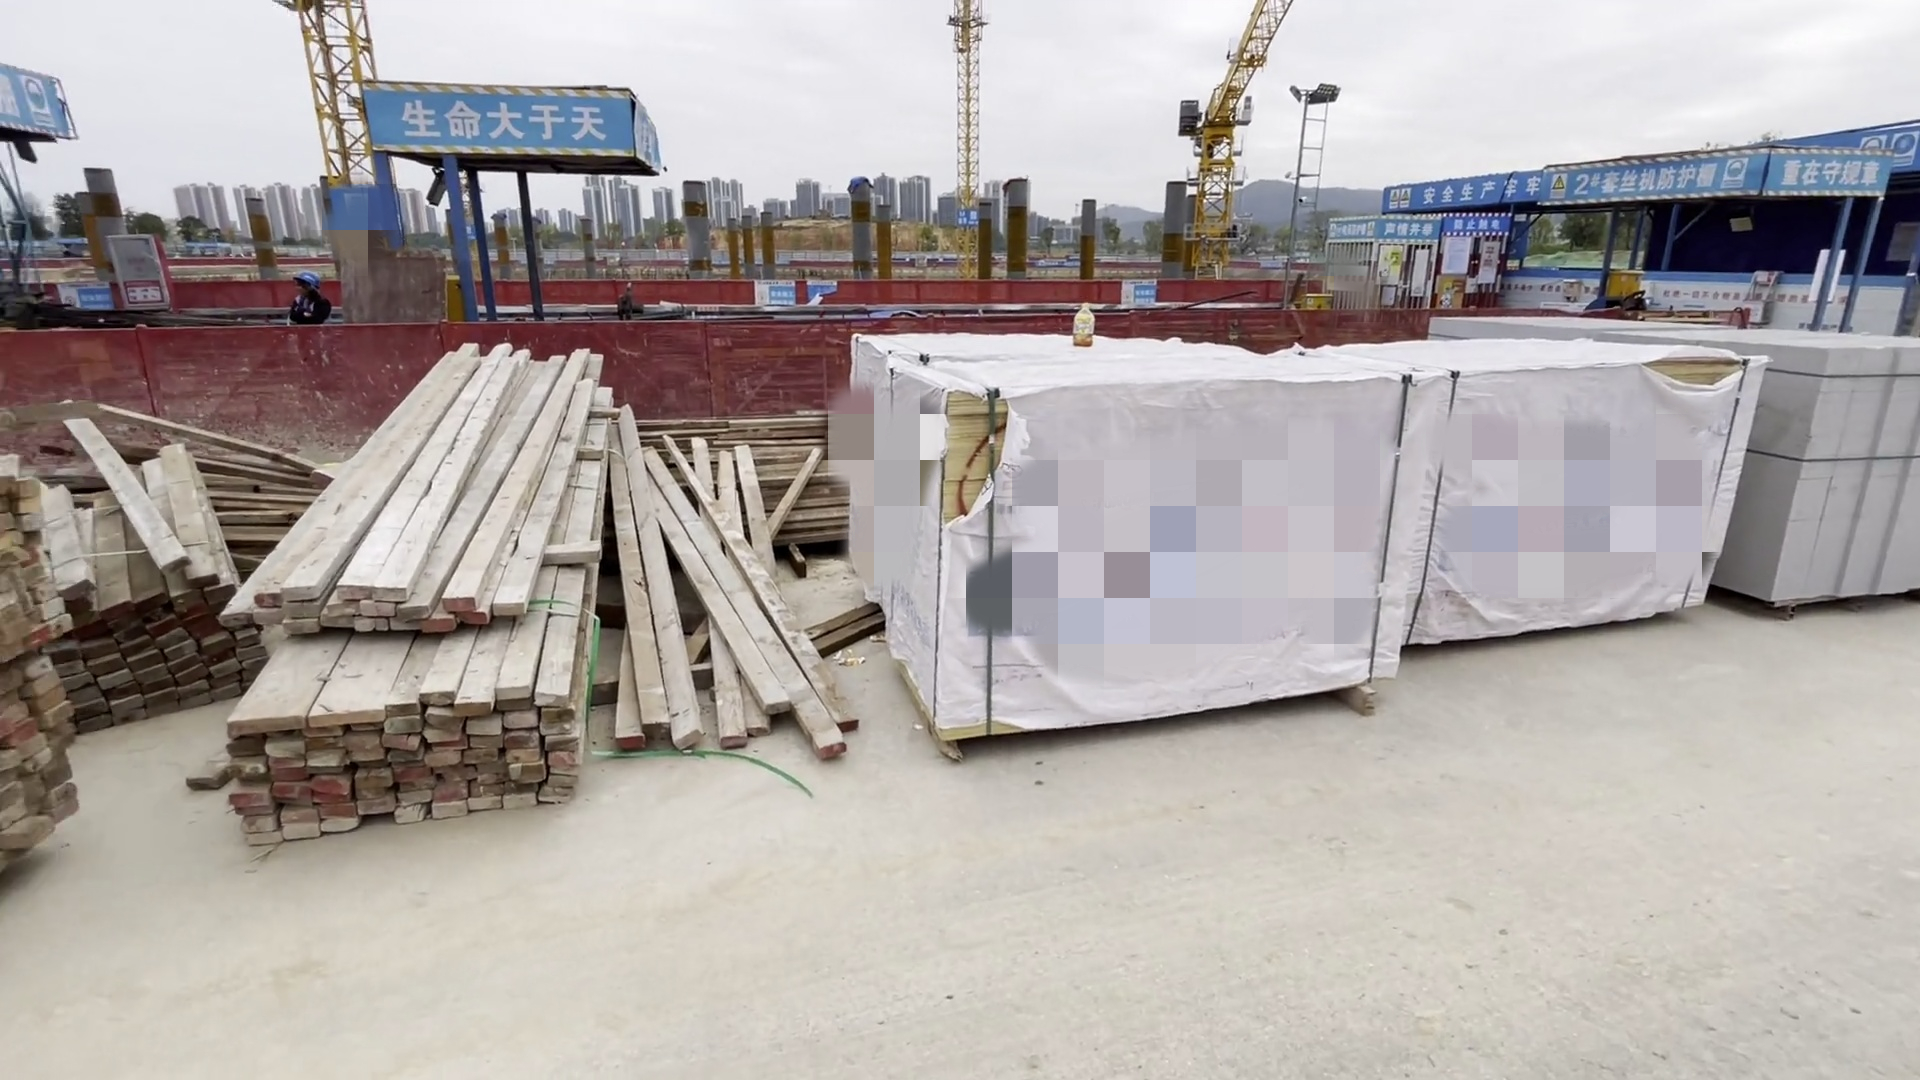slogan: (1396, 156, 1891, 212), (373, 83, 632, 166)
wood: (1, 352, 858, 877)
